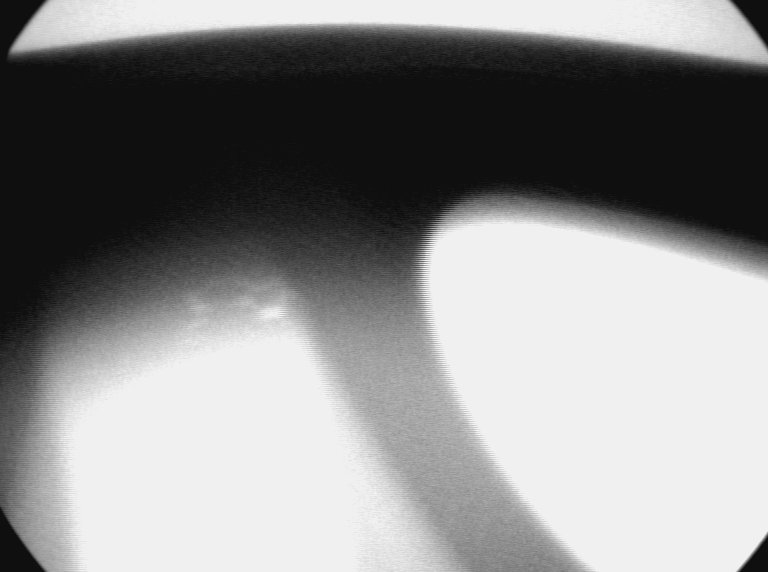defect: (187, 329, 208, 347)
